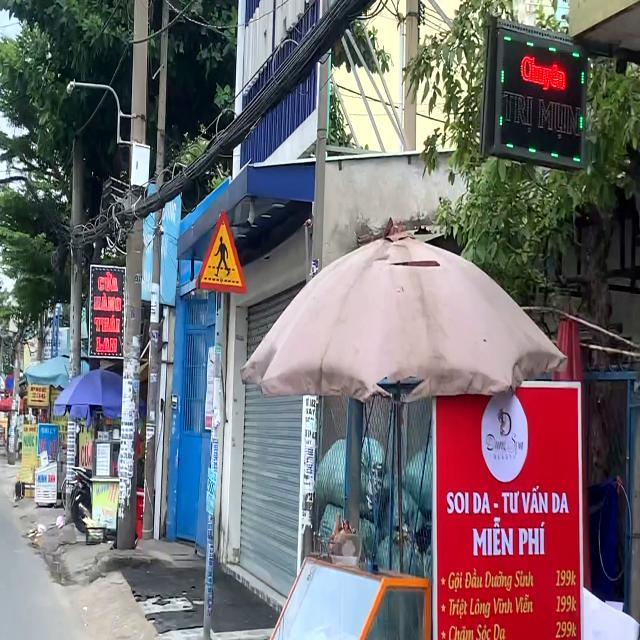W-224: (198, 210, 246, 294)
